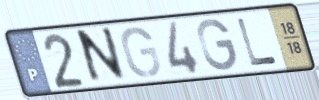2: (41, 30, 88, 91)
4: (165, 19, 201, 77)
G: (195, 17, 239, 73), (119, 25, 163, 80)
L: (234, 16, 280, 68)
N: (76, 24, 129, 88)
